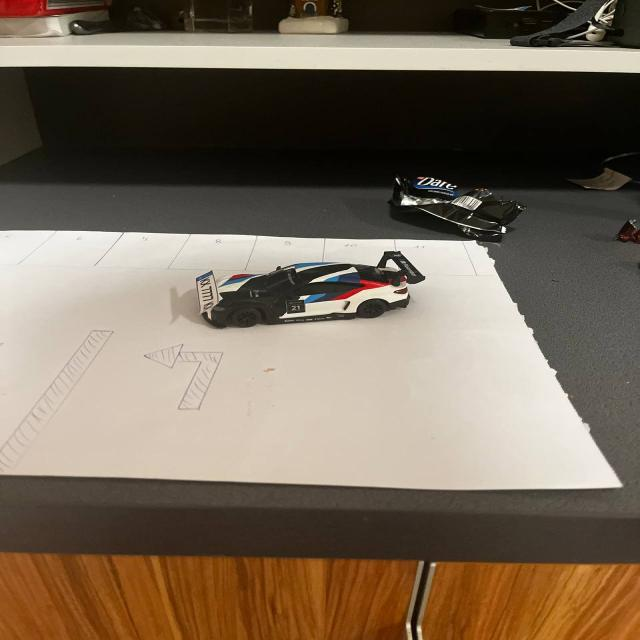KX 7777 KX: (188, 266, 228, 321)
